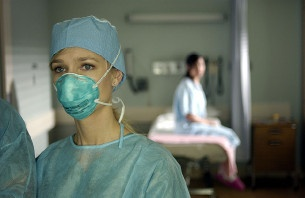Mask: (48, 52, 114, 118)
